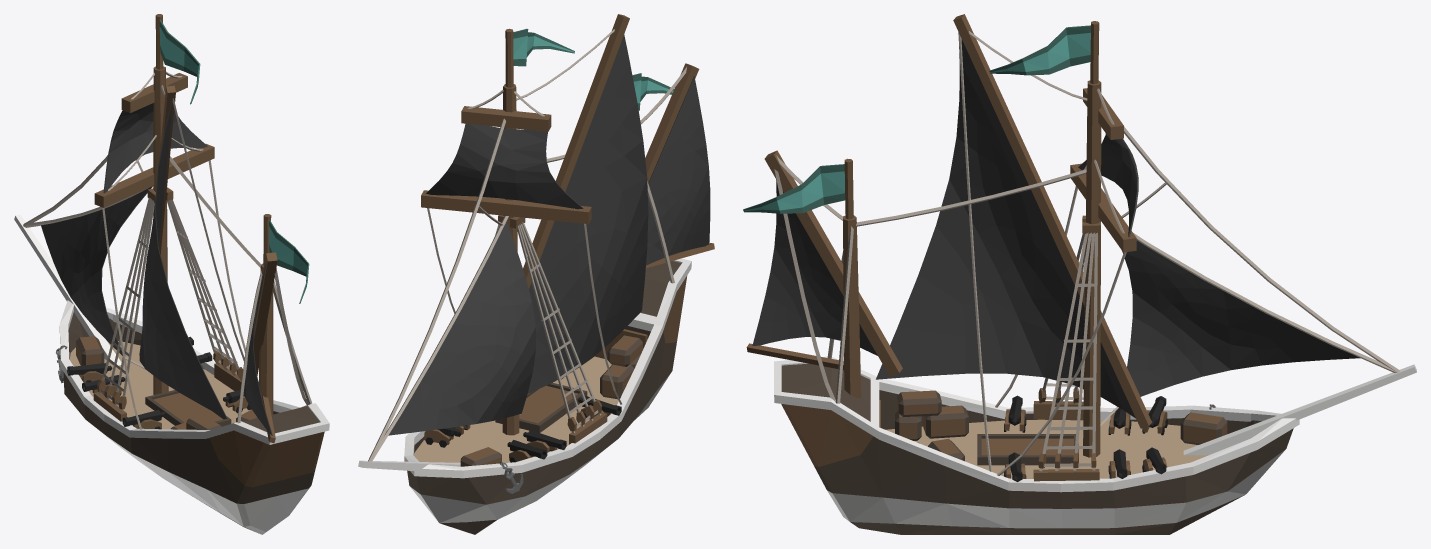
The model's file is Ship.glb.
3 views of the same model, side by side, from view 1: azimuth 30°, elevation 25°; view 2: azimuth 150°, elevation 25°; view 3: azimuth 270°, elevation 25° (orthographic). The views are drawn at different scales.
Parts seen in each view (by area): view 1: Cube_083; view 2: Cube_083; view 3: Cube_083.
Part boxes in pixels (x1,y1,x2,y2): Cube_083: (14,14,329,534); Cube_083: (358,14,714,534); Cube_083: (743,14,1416,534).
Bounding box in the file's own units: 6.67 × 20.62 × 24.56.
1 material, 1 textured.
